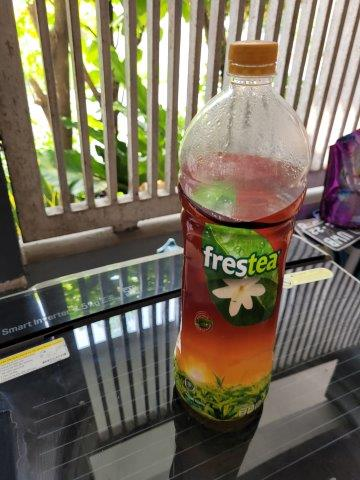botolplastik: (170, 41, 309, 427)
